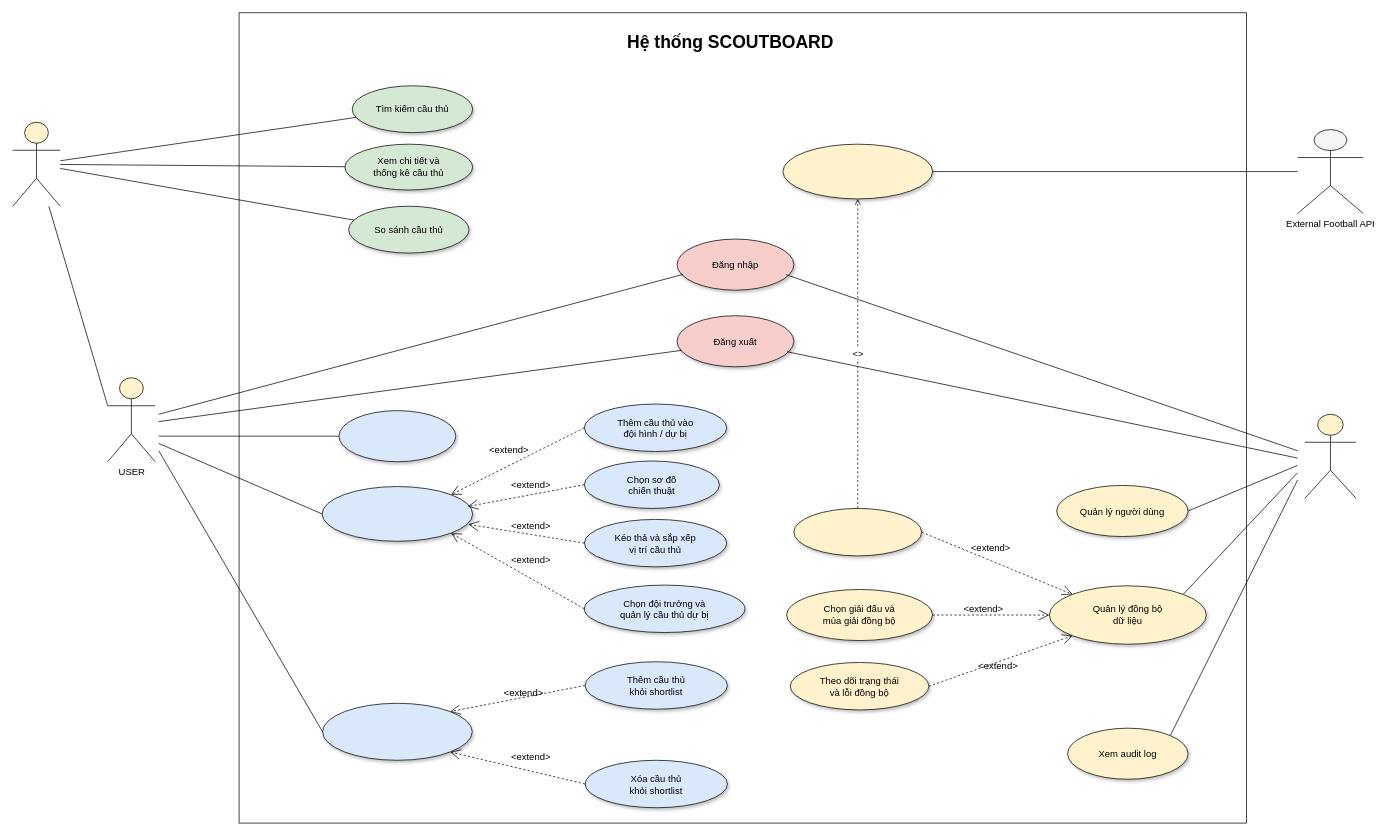
Some shapes in this 1387 by 836 pixel diagram are drawn without their labels. Here are the shapes that lost their labels. From the top down, the centre of each, then its label:
the point at 36,164: GUEST
the point at 858,172: Đồng bộ dữ liệu bóng đá
the point at 397,437: Đăng ký
the point at 1330,456: ADMIN
the point at 397,514: Quản lý đội hình mơ ước
the point at 858,533: Chạy job đồng bộ
the point at 398,732: Quản lý shortlist cá nhân
